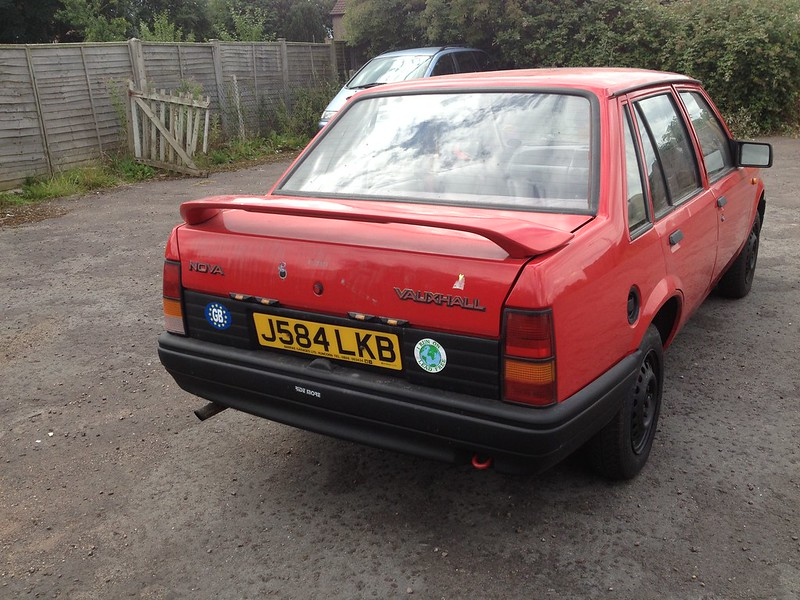number_plate: (244, 304, 413, 373)
